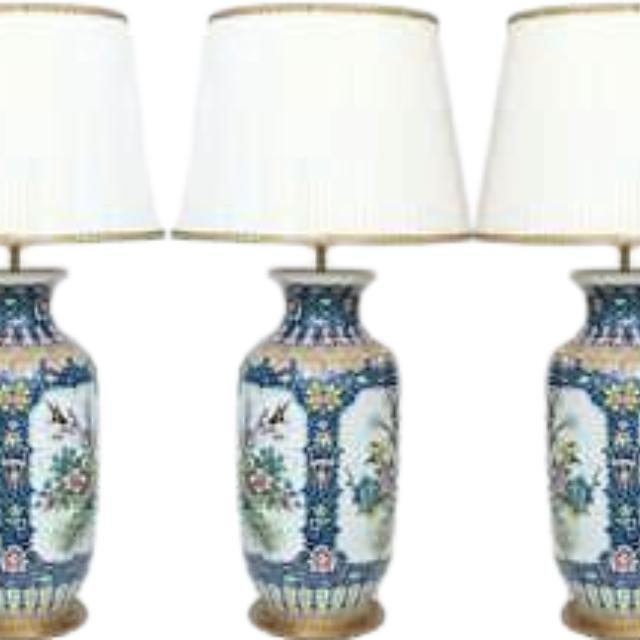lamp: (173, 0, 472, 640), (0, 2, 161, 640)
